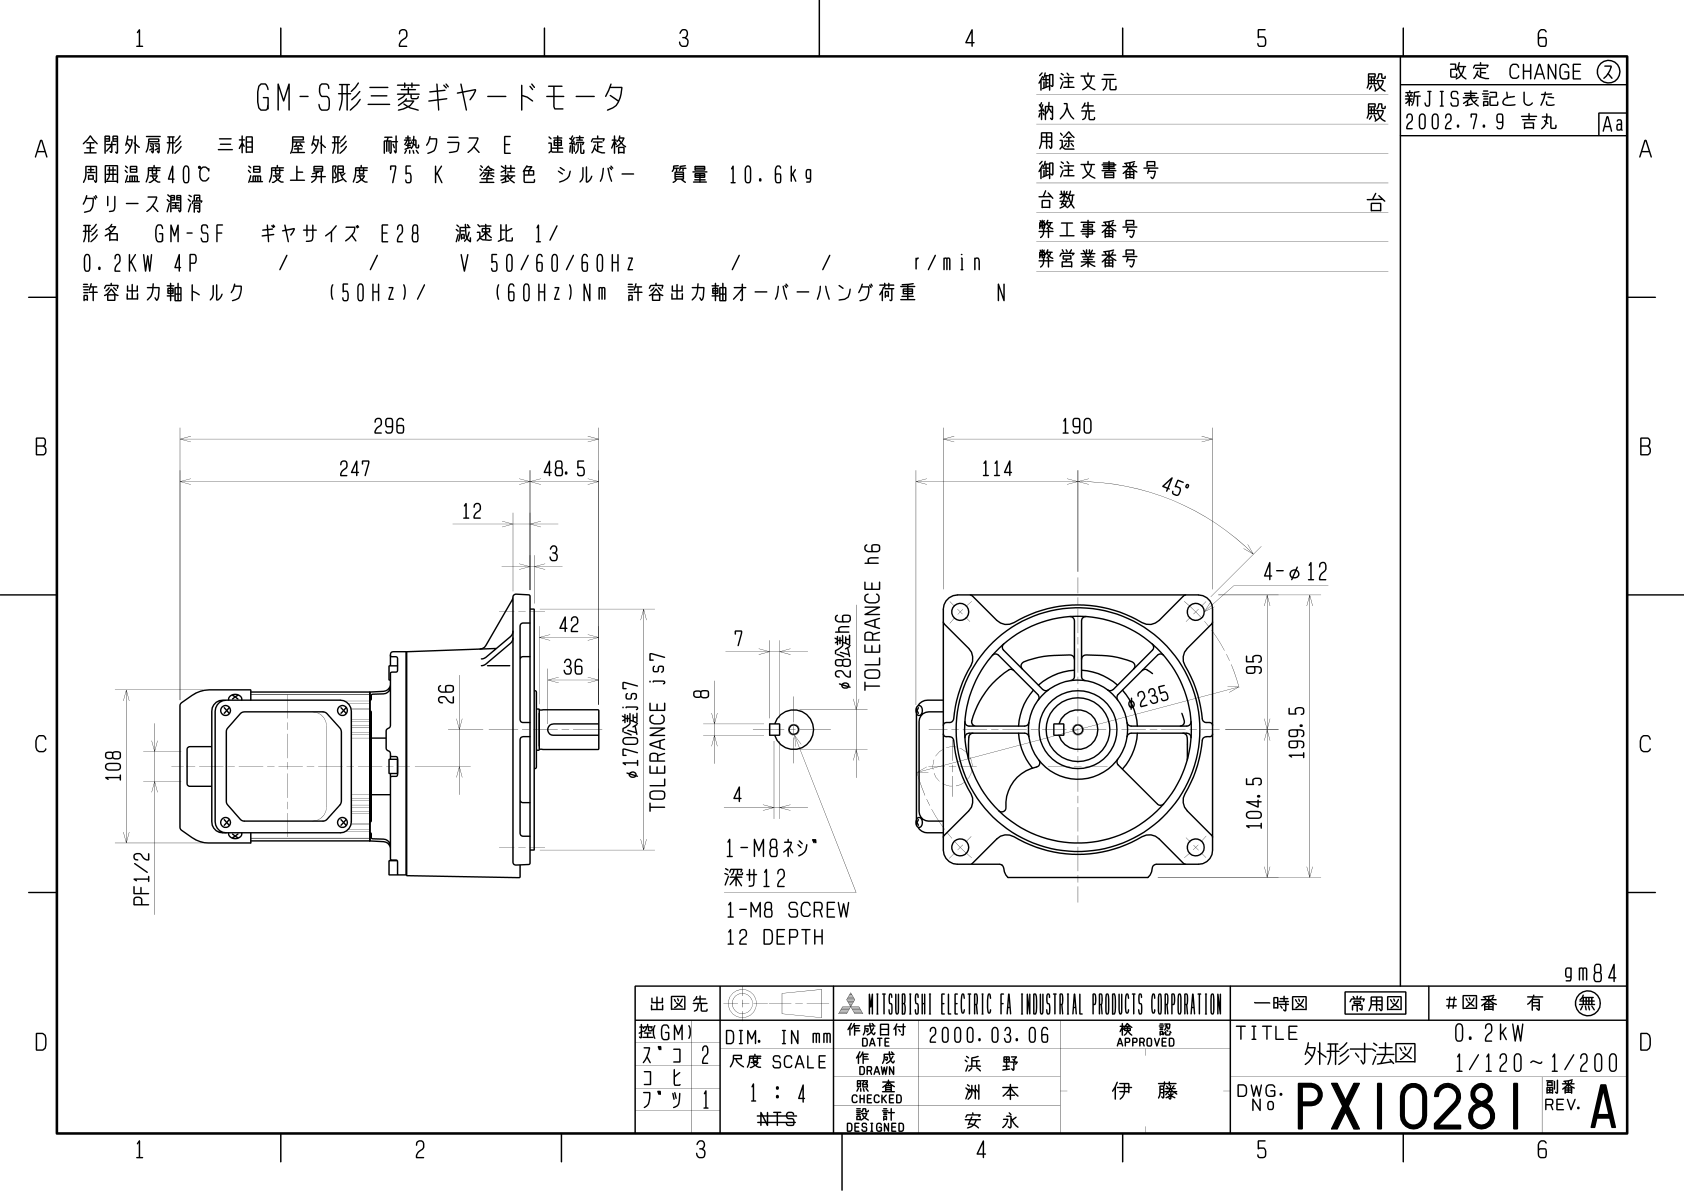GM_S_屋外＿三相_フランジ: (77, 384, 1375, 965)
